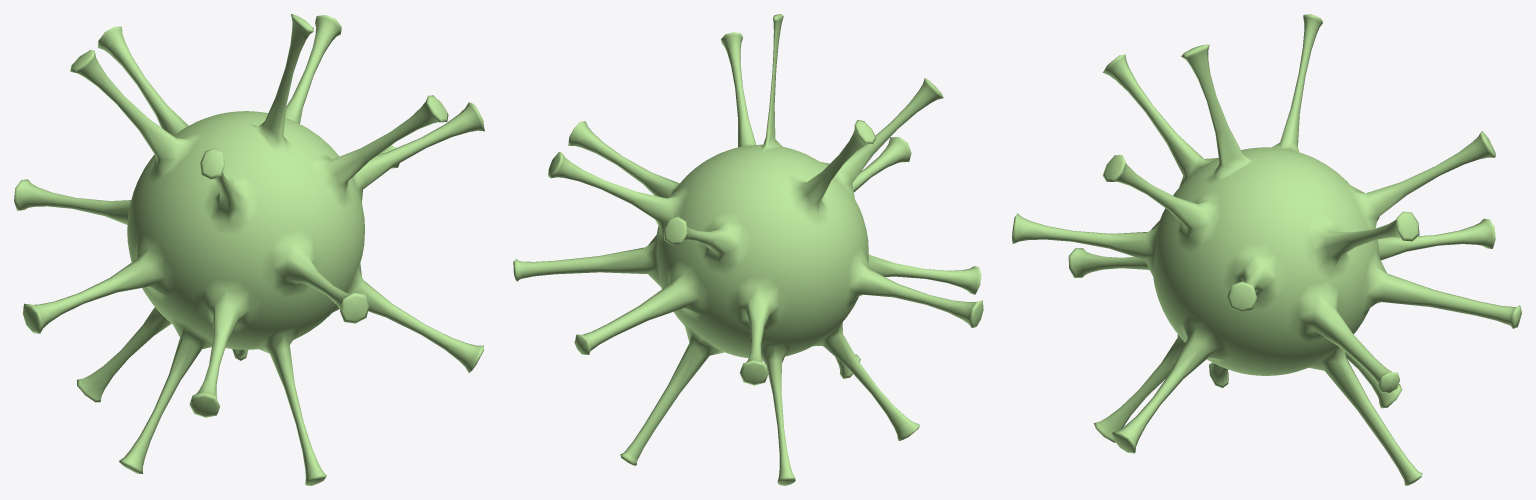
File: KaramendosCell.obj
The picture shows the model from 3 angles, left to right: view 1: azimuth 30°, elevation 25°; view 2: azimuth 150°, elevation 25°; view 3: azimuth 270°, elevation 25°; orthographic projection. The views are drawn at different scales.
Parts seen in each view (by area): view 1: Sphere01; view 2: Sphere01; view 3: Sphere01.
Boxes of the visible parts, x1=… form: Sphere01: x1=14, y1=14, x2=484, y2=485; Sphere01: x1=513, y1=14, x2=983, y2=485; Sphere01: x1=1012, y1=14, x2=1521, y2=485.
Bounding box in the file's own units: 145 × 133 × 147.
